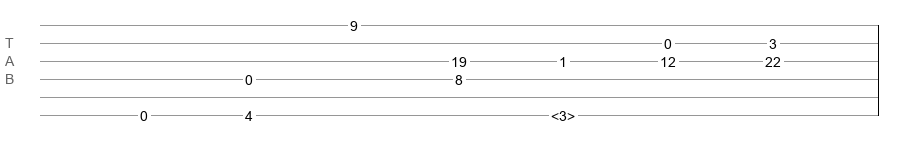0: (140, 108, 148, 118), (245, 72, 253, 82), (664, 36, 672, 46)
1: (559, 54, 567, 64)
12: (660, 54, 676, 64)
19: (451, 54, 467, 64)
22: (765, 54, 781, 64)
3: (769, 36, 777, 46)
4: (245, 108, 253, 118)
8: (455, 72, 463, 82)
9: (350, 18, 358, 28)
harmonic: (551, 108, 575, 118)
